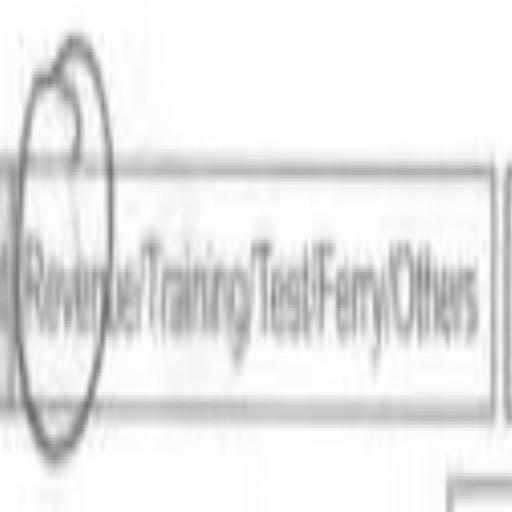check: (20, 56, 146, 486)
